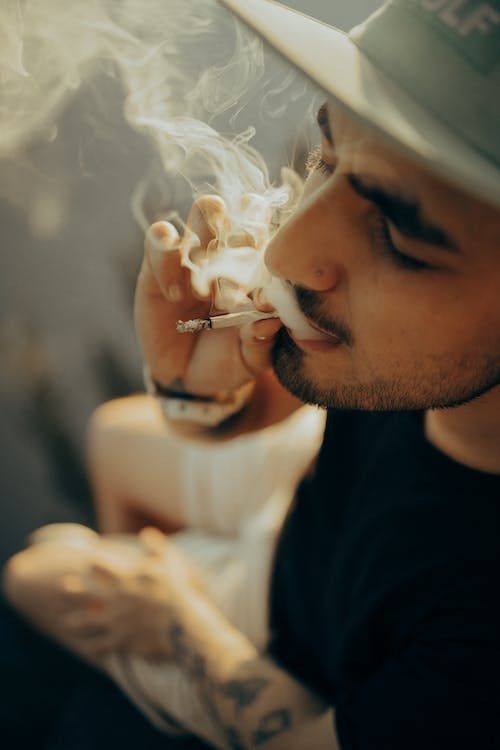cigarette: (174, 307, 284, 335)
